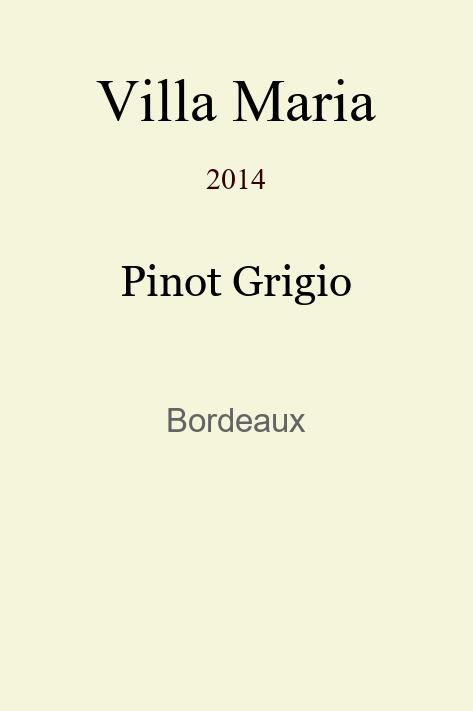brand: (96, 67, 376, 109)
region: (166, 402, 306, 426)
variety: (120, 256, 352, 297)
vintage: (206, 162, 266, 182)
